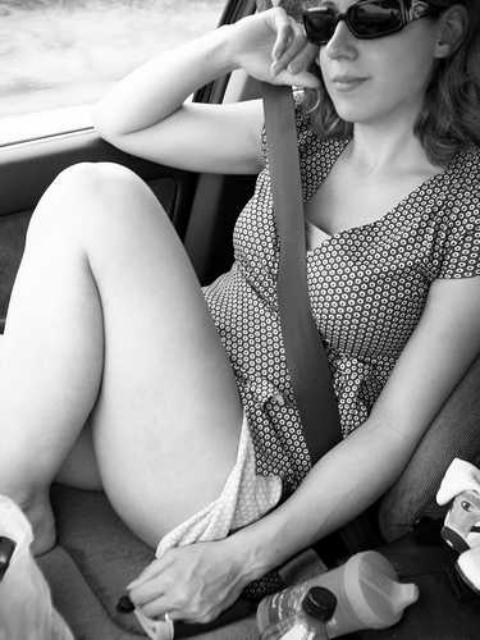Seatbelt: (255, 76, 352, 472)
